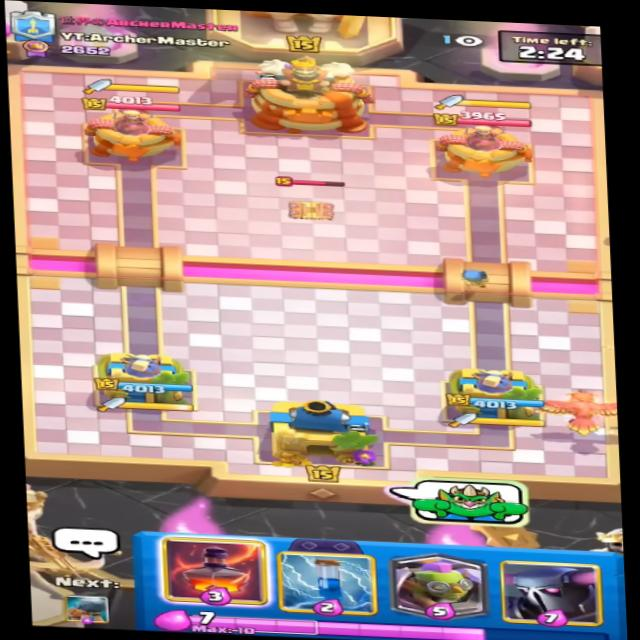tesla-closed: (265, 168, 357, 223)
